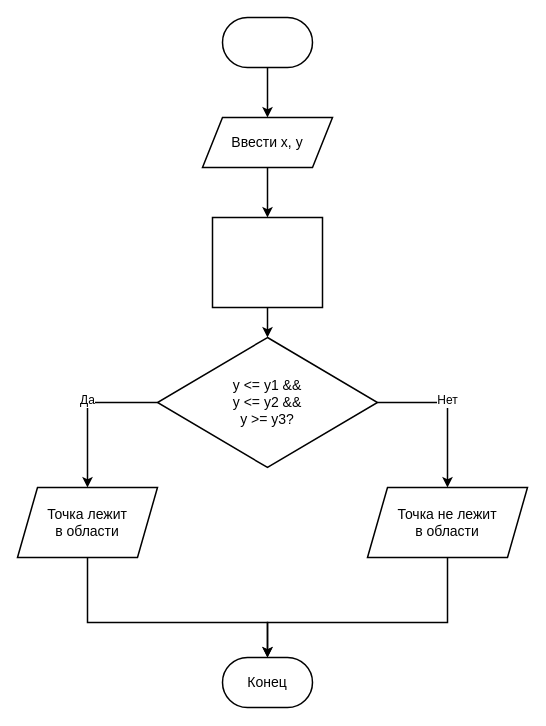
Image size: 546x726. Some labels were removed from this diagram. Each missing label, with the centre of its shape:
y1 = x + 4 y2 = -x + 4 y3 = 0: the point at 267,262
Начало: the point at 267,42
